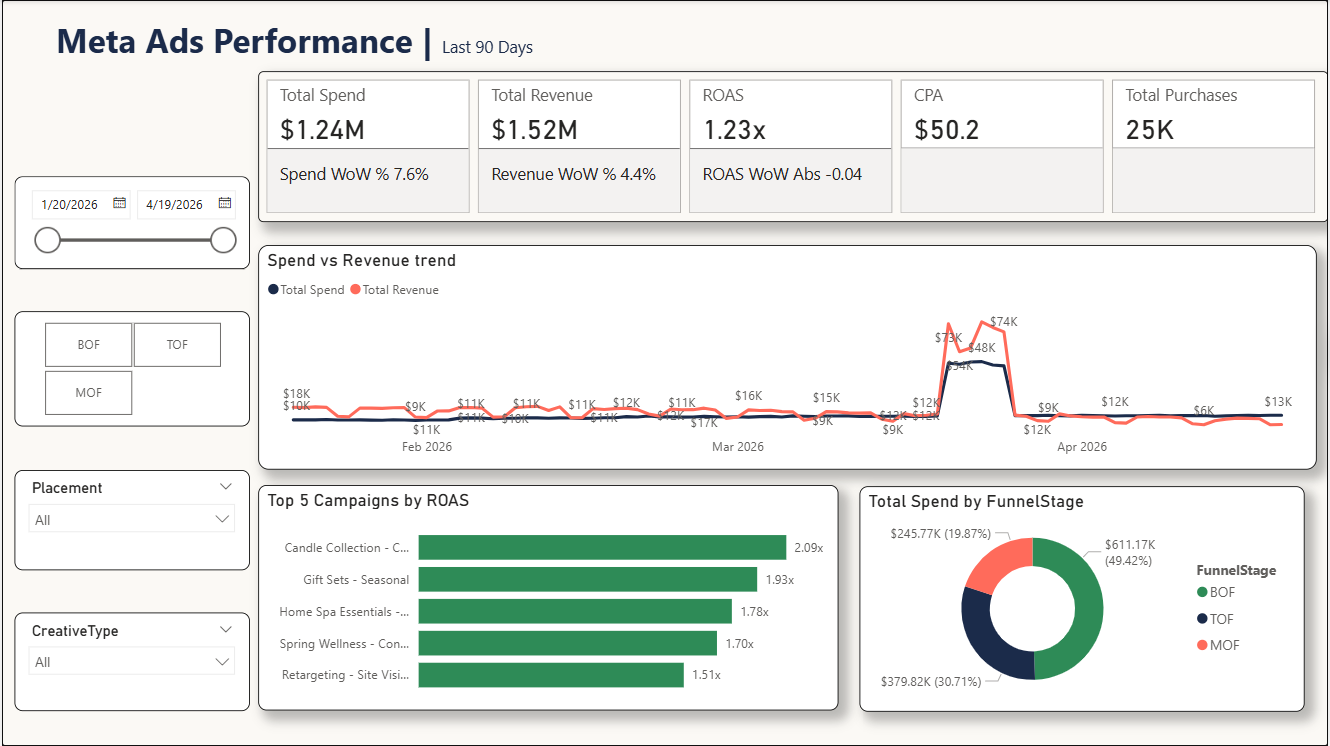

What the dashboard file says about the page in this screenshot:
{"tool":"powerbi","page":{"name":"Executive Summary","canvas":[1280,720],"ordinal":0},"visuals":[{"type":"slicer","fields":{"Values":["Dim_Date.Date"]},"box":[12.1,170.1,226.8,89.3],"z":0},{"type":"slicer","fields":{"Values":["Dim_Campaign.FunnelStage"]},"box":[12.1,300.8,226.8,111],"z":1000},{"type":"slicer","fields":{"Values":["Dim_AdSet.Placement"]},"box":[12.1,453.2,226.8,96.5],"z":2000},{"type":"slicer","fields":{"Values":["Dim_Creative.CreativeType"]},"box":[12.1,591.2,226.8,95.3],"z":3000},{"type":"textbox","box":[47.1,12.1,653.9,90.5],"z":4000},{"type":"cardVisual","fields":{"Data":["Calculations.Total Spend","Calculations.Total Revenue","Calculations.ROAS","Calculations.CPA","Calculations.Total Purchases"]},"box":[247.3,68.8,1032.7,146],"z":5000},{"type":"lineChart","title":"Spend vs Revenue trend ","fields":{"Category":["Dim_Date.Date"],"Y":["Calculations.Total Spend","Calculations.Total Revenue"]},"box":[247.3,236.5,1021.9,217.2],"z":6000},{"type":"barChart","title":"Top 5 Campaigns by ROAS","fields":{"Y":["Calculations.ROAS"],"Category":["Dim_Campaign.ShortCampaignName"]},"box":[247.4,467.6,560.3,217.7],"z":7000},{"type":"donutChart","fields":{"Category":["Dim_Campaign.FunnelStage"],"Y":["Calculations.Total Spend"]},"box":[827.5,468.8,429.2,217.7],"z":8000}]}

Visuals, with their boxes in screenshot pixels (x1, y1, x2, y2), scaled from the page's 1280x720 canvas onto the 1330x746 screenshot:
slicer - Dim_Date.Date: crop(13, 176, 248, 269)
slicer - Dim_Campaign.FunnelStage: crop(13, 312, 248, 427)
slicer - Dim_AdSet.Placement: crop(13, 470, 248, 570)
slicer - Dim_Creative.CreativeType: crop(13, 613, 248, 711)
textbox: crop(49, 13, 728, 106)
cardVisual - Calculations.Total Spend x Calculations.Total Revenue: crop(257, 71, 1329, 223)
"Spend vs Revenue trend " lineChart: crop(257, 245, 1319, 470)
"Top 5 Campaigns by ROAS" barChart: crop(257, 484, 839, 710)
donutChart - Dim_Campaign.FunnelStage x Calculations.Total Spend: crop(860, 486, 1306, 711)
